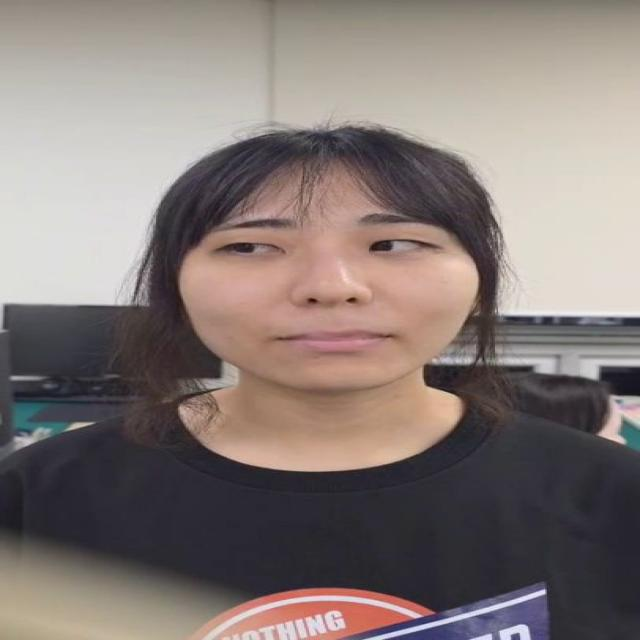eyes: (210, 234, 448, 268)
face: (178, 127, 484, 400)
iris_right: (222, 238, 271, 258), (363, 238, 397, 256)
